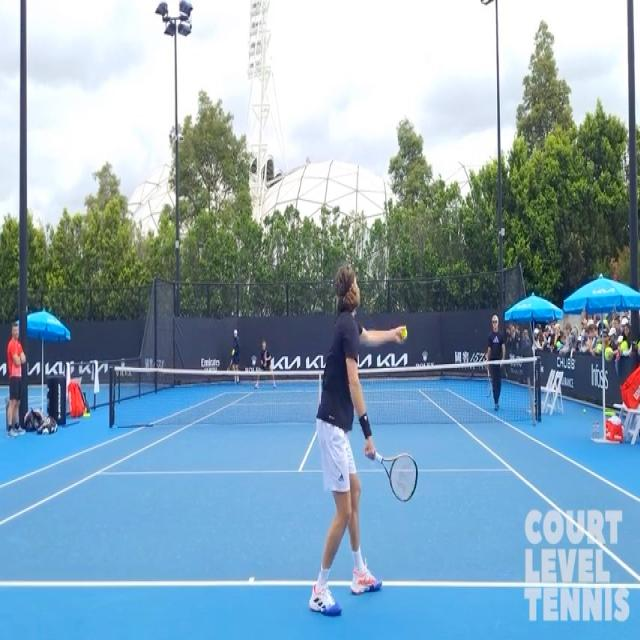serve_toss: (309, 262, 421, 630)
